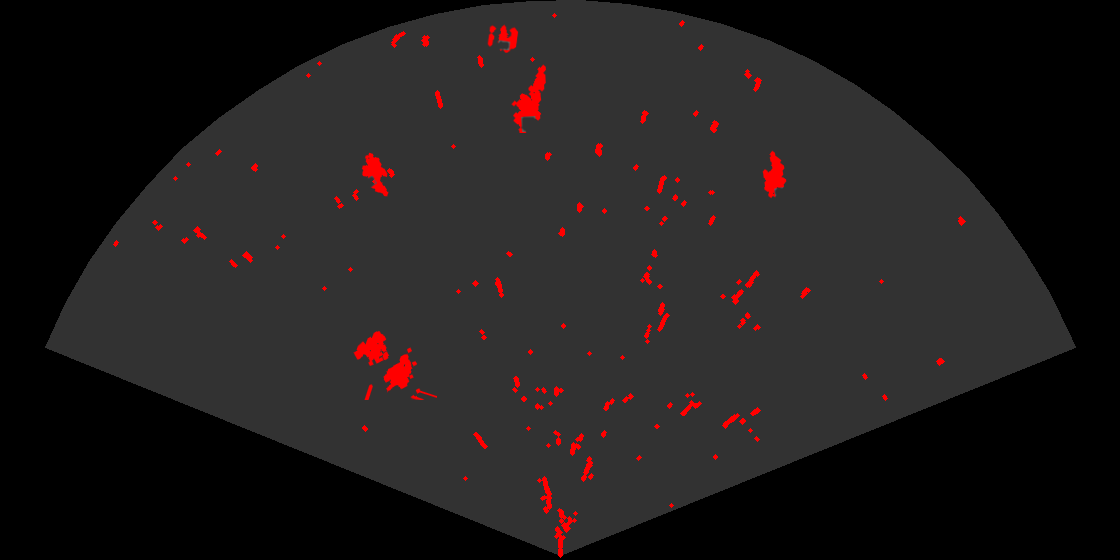AUV: (360, 151, 390, 198), (761, 149, 788, 200)
ball: (486, 23, 520, 54)
cage: (352, 329, 437, 400)
frogman: (510, 63, 548, 133)
